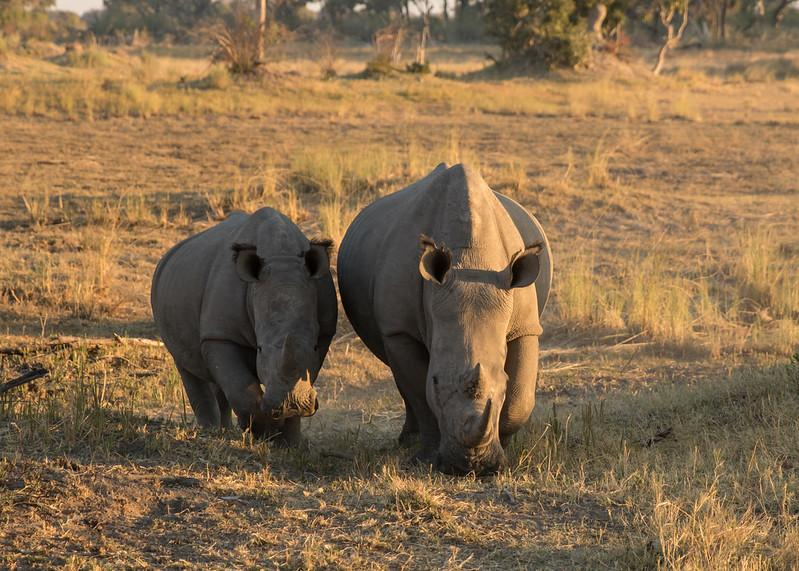rhinoceros: (346, 155, 583, 488), (141, 208, 350, 464)
